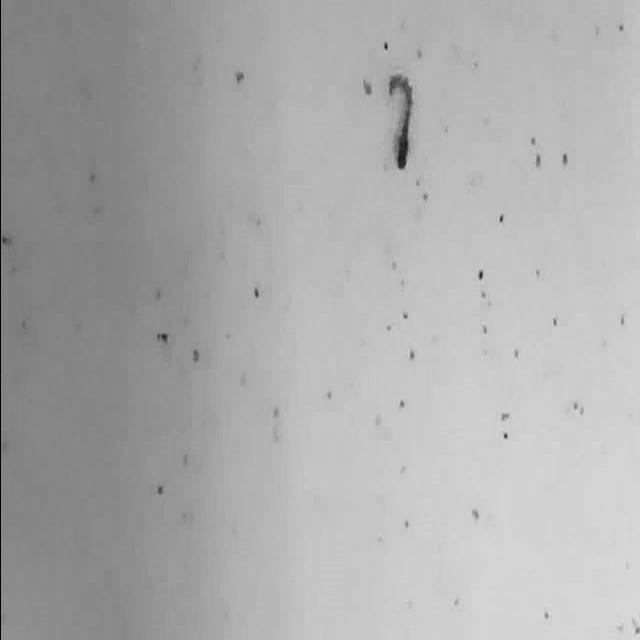larvas: (388, 74, 412, 170)
